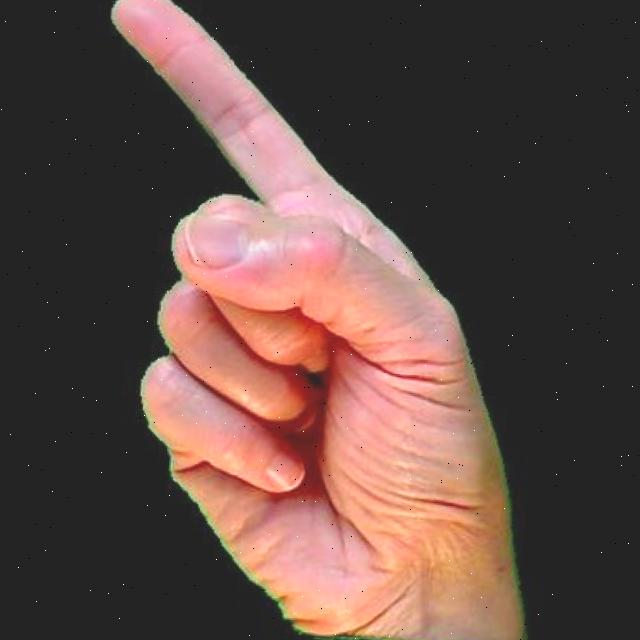z: (52, 0, 583, 640)
